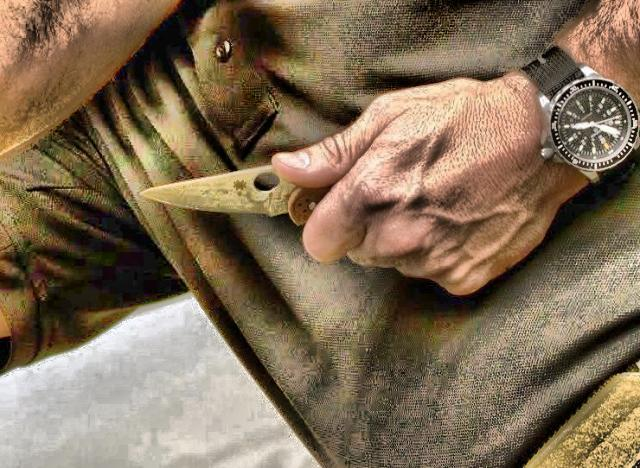knife: (128, 147, 408, 275)
